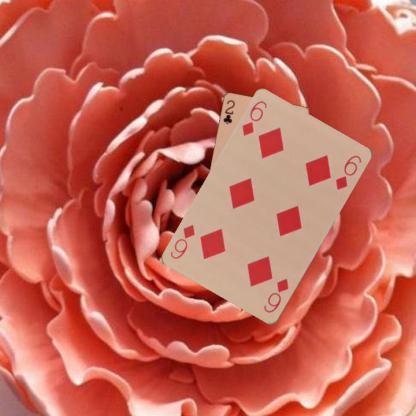2c: (221, 96, 236, 126)
6d: (240, 98, 269, 138), (261, 276, 290, 315)
